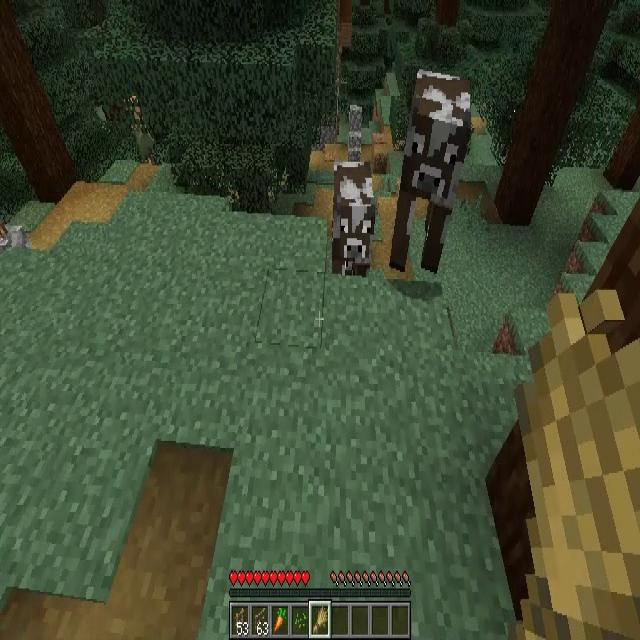cow: (388, 70, 473, 271), (333, 161, 376, 280)
